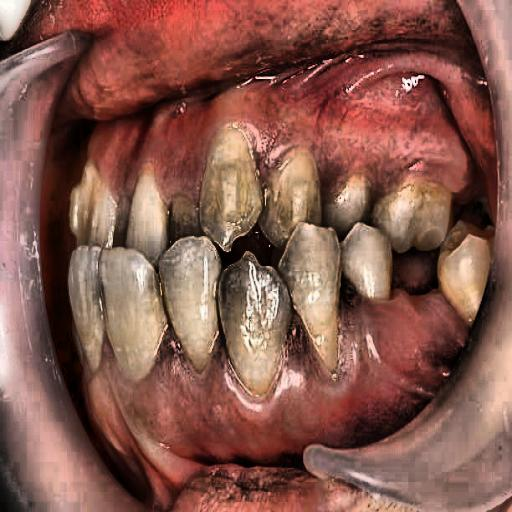Gingivitis: (85, 61, 486, 183)
